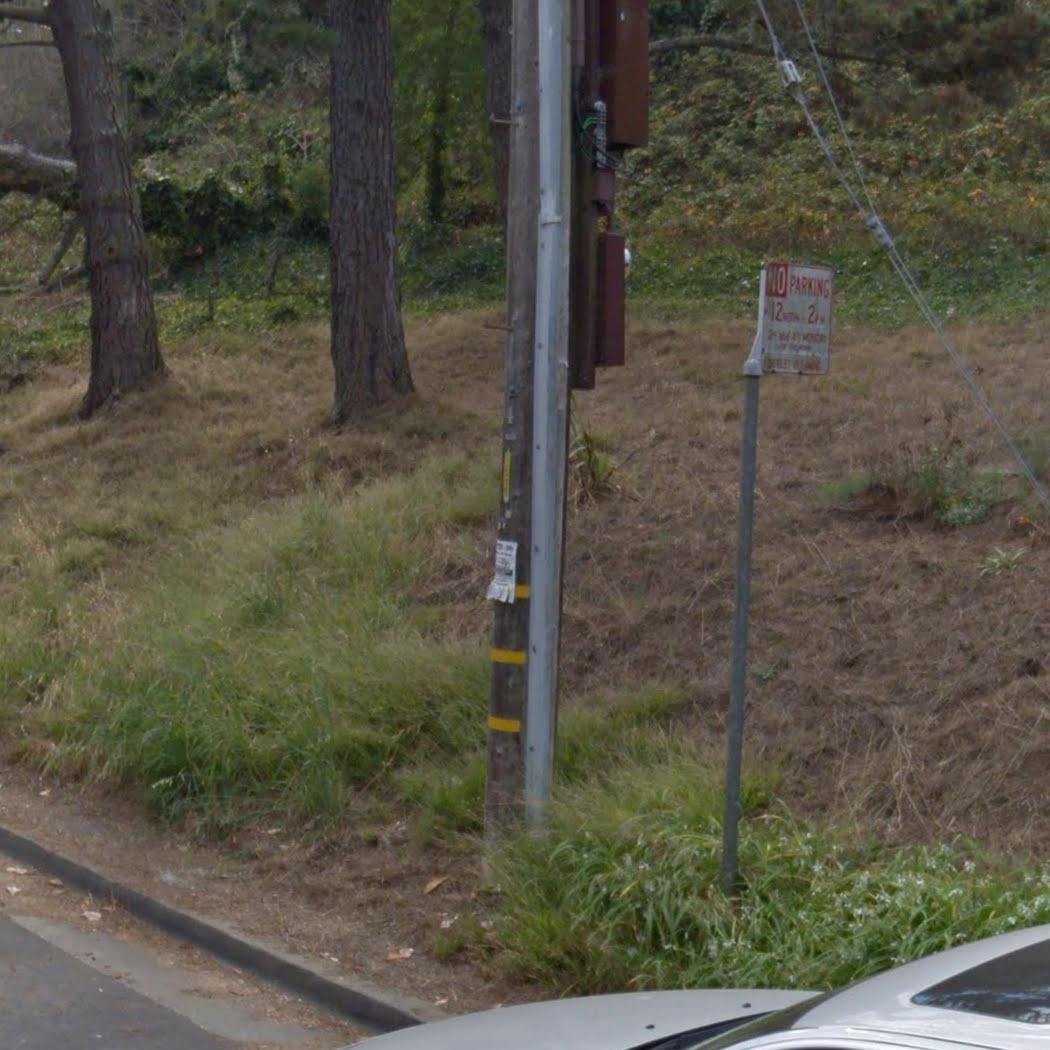No Parking: (756, 255, 837, 379)
